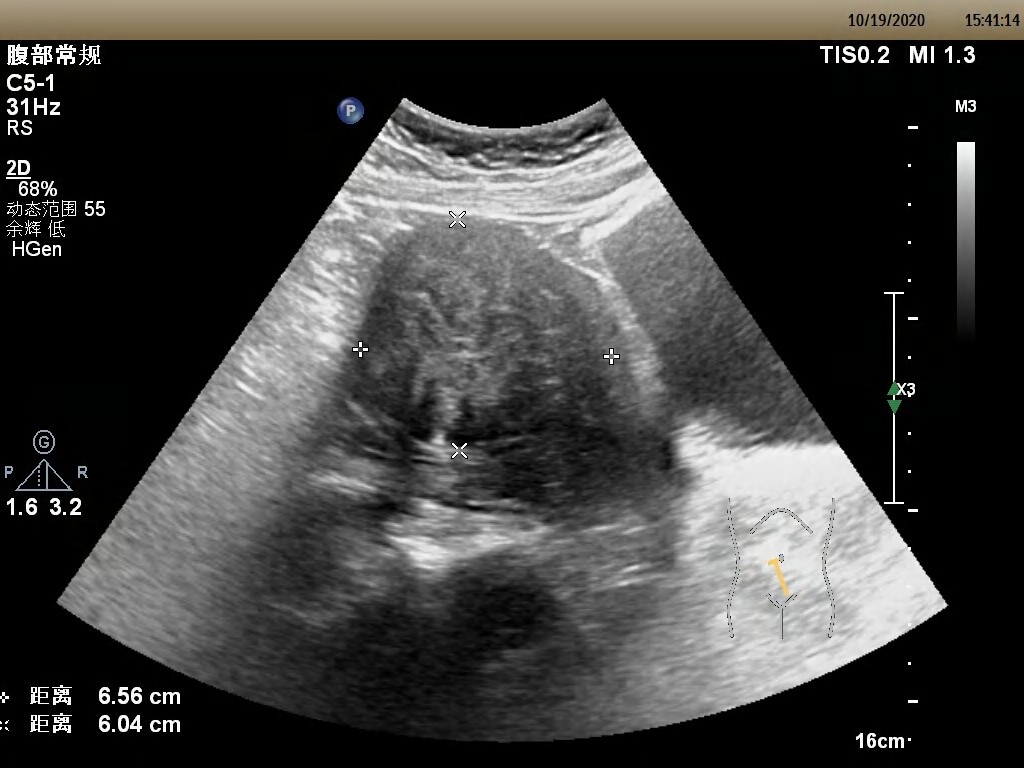肌瘤: (356, 216, 610, 451)
